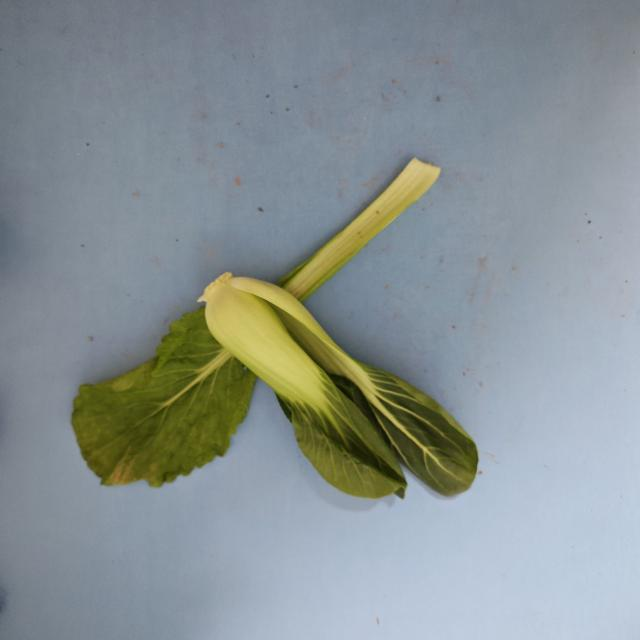-Kitchen waste - vegetable roots and leaves-: (72, 158, 441, 487), (202, 270, 480, 497)
